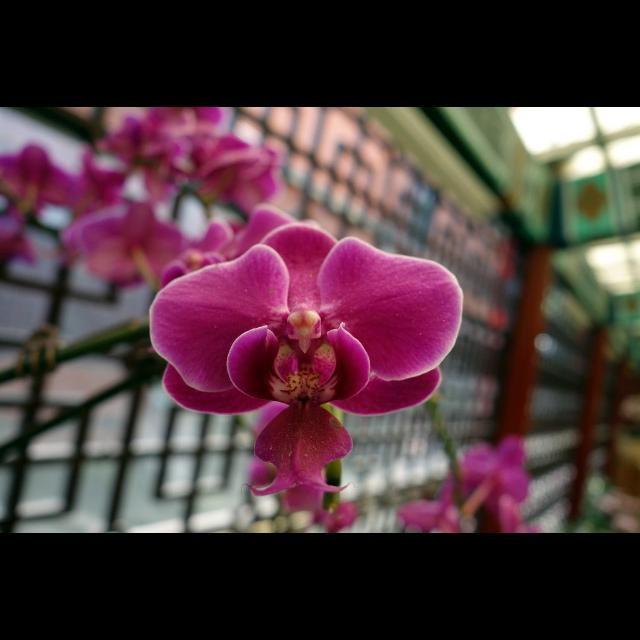Flower: (0, 107, 548, 533)
